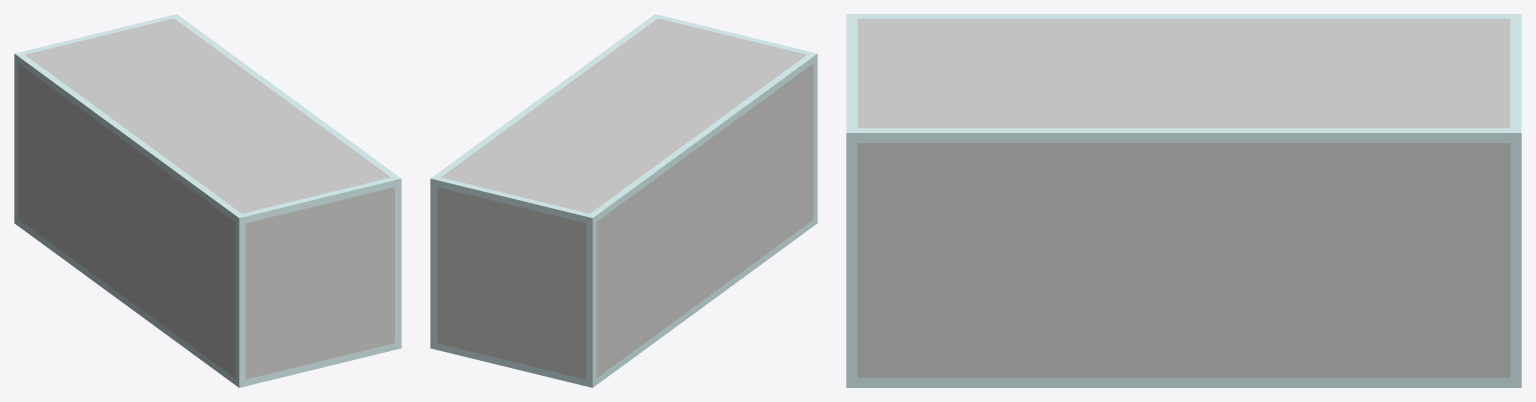
Rendered from props_cargo-simple.fbx.
3 renders of one model, left to right at view 1: azimuth 30°, elevation 25°; view 2: azimuth 150°, elevation 25°; view 3: azimuth 270°, elevation 25°, orthographic. The views are drawn at different scales.
Visible parts, largest first — view 1: props_cargo_simple; view 2: props_cargo_simple; view 3: props_cargo_simple.
Boxes of the visible parts, bbox=[...] form: props_cargo_simple: bbox=[14, 14, 401, 387]; props_cargo_simple: bbox=[430, 14, 817, 387]; props_cargo_simple: bbox=[846, 14, 1521, 387].
Bounding box in the file's own units: 83.33 × 83.33 × 200.
